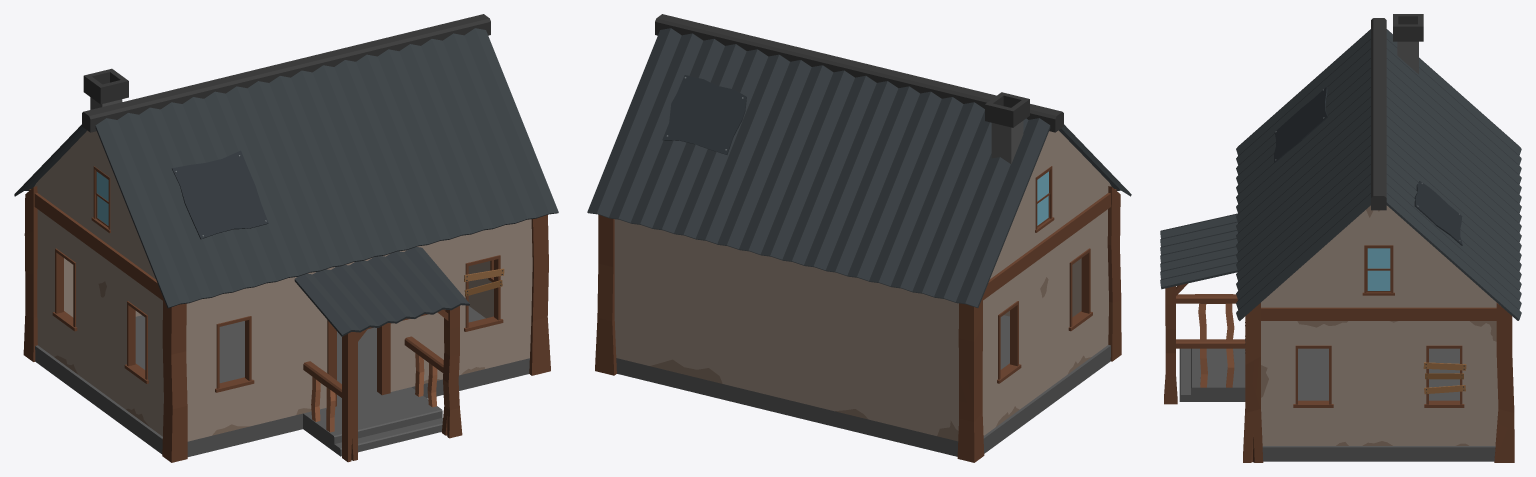
The model's file is House_04.fbx.
The picture shows the model from 3 angles, left to right: view 1: azimuth 30°, elevation 25°; view 2: azimuth 150°, elevation 25°; view 3: azimuth 270°, elevation 25°; orthographic projection. The views are drawn at different scales.
Parts seen in each view (by area): view 1: House_04; view 2: House_04; view 3: House_04.
Part boxes in pixels (bbox=[...]): House_04: bbox=[14, 14, 558, 462]; House_04: bbox=[587, 14, 1131, 462]; House_04: bbox=[1160, 14, 1521, 462].
Bounding box in the file's own units: 804 × 601 × 690.
